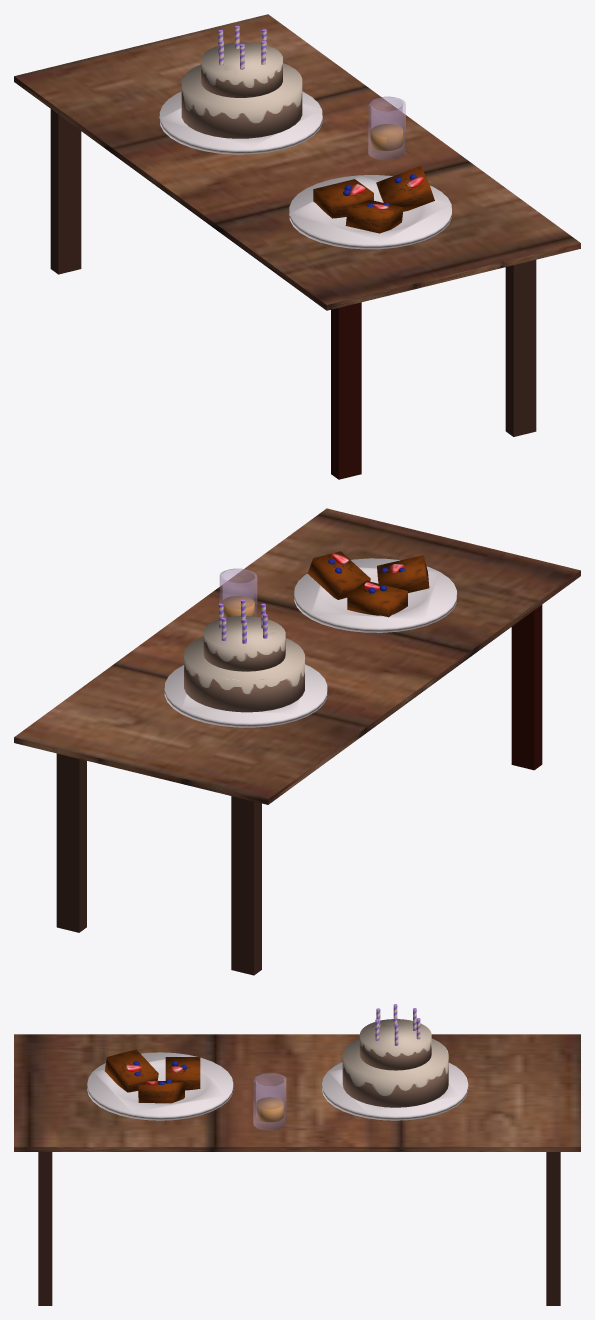
The model's file is cake.glb.
The picture shows the model from 3 angles, top to bottom: view 1: azimuth 30°, elevation 25°; view 2: azimuth 150°, elevation 25°; view 3: azimuth 270°, elevation 25°; orthographic projection. The views are drawn at different scales.
Visible parts, largest first — view 1: mesaBase, Cylinder.002, Cylinder.010, Cube.003, Cube.004, Cube.005, Cylinder.001, Cylinder.003, Cylinder.012, Cube.002, Cube.001, Cube (+1 smaller); view 2: mesaBase, Cylinder.002, Cylinder.010, Cube.005, Cube.006, Cube.004, Cylinder.001, Cylinder.003, Cylinder.012, Cube.002, Cube, Cube.001; view 3: mesaBase, Cylinder.010, Cylinder.002, Cylinder.001, Cylinder.003, Cube.003, Cube.006, Cylinder.012, Cube.001, Cube.002, Cube, Cylinder.011.
Boxes of the visible parts, x1,y1,x2,y2 form: mesaBase: (14,14,580,310); Cylinder.002: (181,63,302,138); Cylinder.010: (289,175,451,249); Cube.003: (505,260,536,436); Cube.004: (331,302,361,479); Cube.005: (50,109,81,274); Cylinder.001: (159,91,322,154); Cylinder.003: (201,42,282,97); Cylinder.012: (368,96,405,160); Cube.002: (376,166,434,211); Cube.001: (345,200,403,233); Cube: (313,179,373,218); mesaBase: (14,508,580,804); Cylinder.002: (184,636,304,712); Cylinder.010: (294,558,456,632); Cube.005: (231,796,261,975); Cube.006: (56,753,86,932); Cube.004: (511,605,542,770); Cylinder.001: (164,664,327,727); Cylinder.003: (203,616,285,671); Cylinder.012: (219,568,257,617); Cube.002: (307,551,370,599); Cube: (347,581,407,617); Cube.001: (377,555,429,592); mesaBase: (14,1034,580,1151); Cylinder.010: (87,1052,233,1120); Cylinder.002: (342,1038,448,1107); Cylinder.001: (322,1062,468,1120); Cylinder.003: (359,1019,431,1070); Cube.003: (38,1152,52,1305); Cube.006: (546,1152,560,1305); Cylinder.012: (253,1072,286,1130); Cube.001: (104,1049,158,1092); Cube.002: (138,1080,184,1103); Cube: (165,1057,200,1090); Cylinder.011: (256,1097,283,1122).
Bounding box in the file's own units: 4.98 × 5.15 × 10.61.
19 materials, 11 textured.
